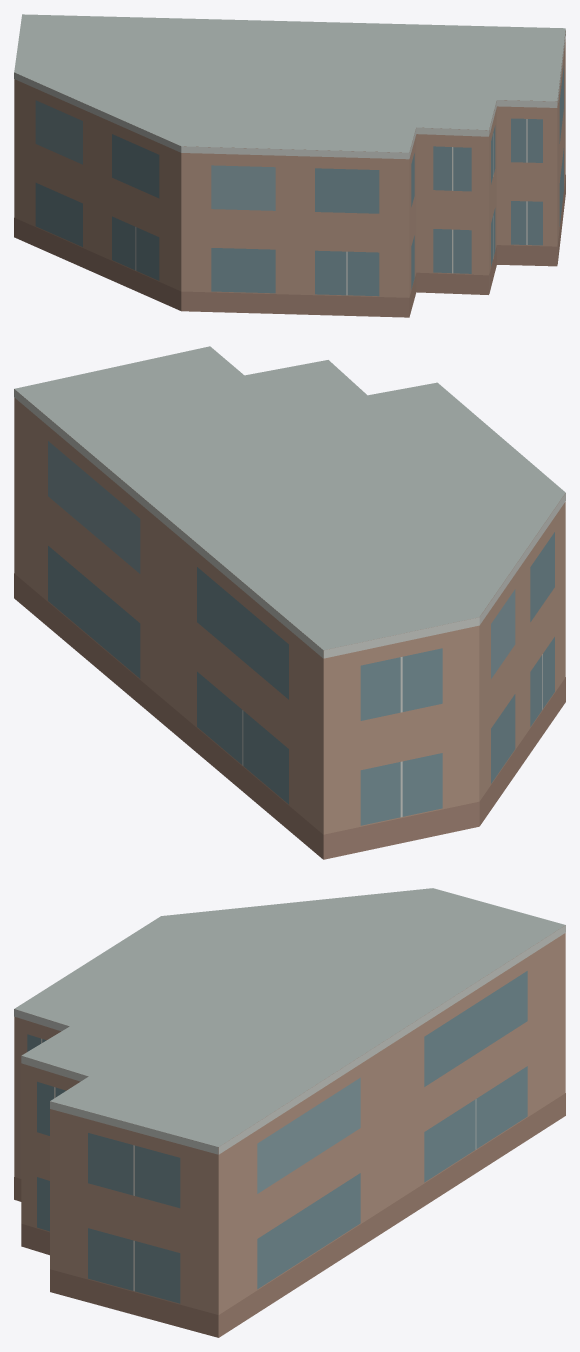
The model's file is survey-upis-32884224.glb.
The picture shows the model from 3 angles, top to bottom: view 1: azimuth 30°, elevation 25°; view 2: azimuth 150°, elevation 25°; view 3: azimuth 270°, elevation 25°; orthographic projection. The views are drawn at different scales.
Visible parts, largest first — view 1: survey-upis-32884224.tmp; view 2: survey-upis-32884224.tmp; view 3: survey-upis-32884224.tmp.
Part boxes in pixels (x1,y1,x2,y2): survey-upis-32884224.tmp: (14, 14, 565, 317); survey-upis-32884224.tmp: (14, 346, 565, 859); survey-upis-32884224.tmp: (14, 888, 565, 1337).
Size of the model in its own units: 17.78 by 6.1 by 16.
